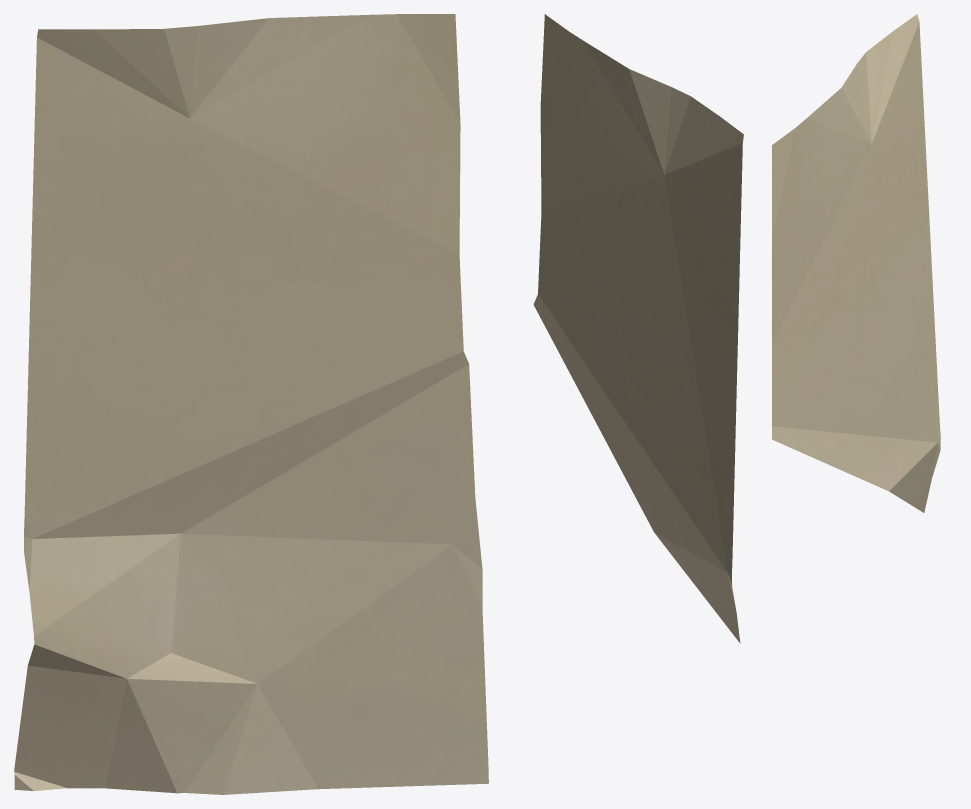
3 views of the same model, side by side, from view 1: azimuth 30°, elevation 25°; view 2: azimuth 150°, elevation 25°; view 3: azimuth 270°, elevation 25° (orthographic). The views are drawn at different scales.
Bounding box in the file's own units: 0.8154 × 1.67 × 0.4407.
2 materials, 2 textured.
